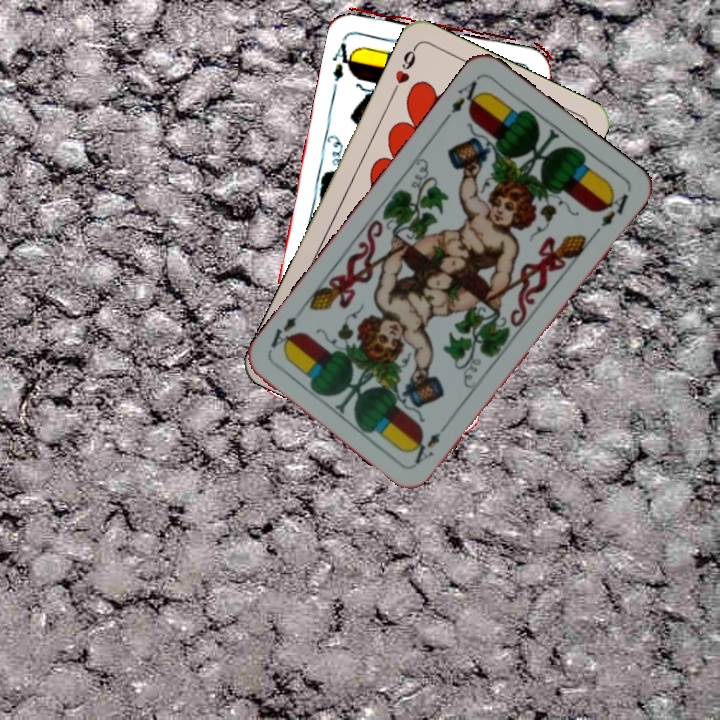EA: (440, 74, 487, 124), (410, 417, 452, 467), (329, 30, 359, 88)
H9: (388, 43, 419, 98)
